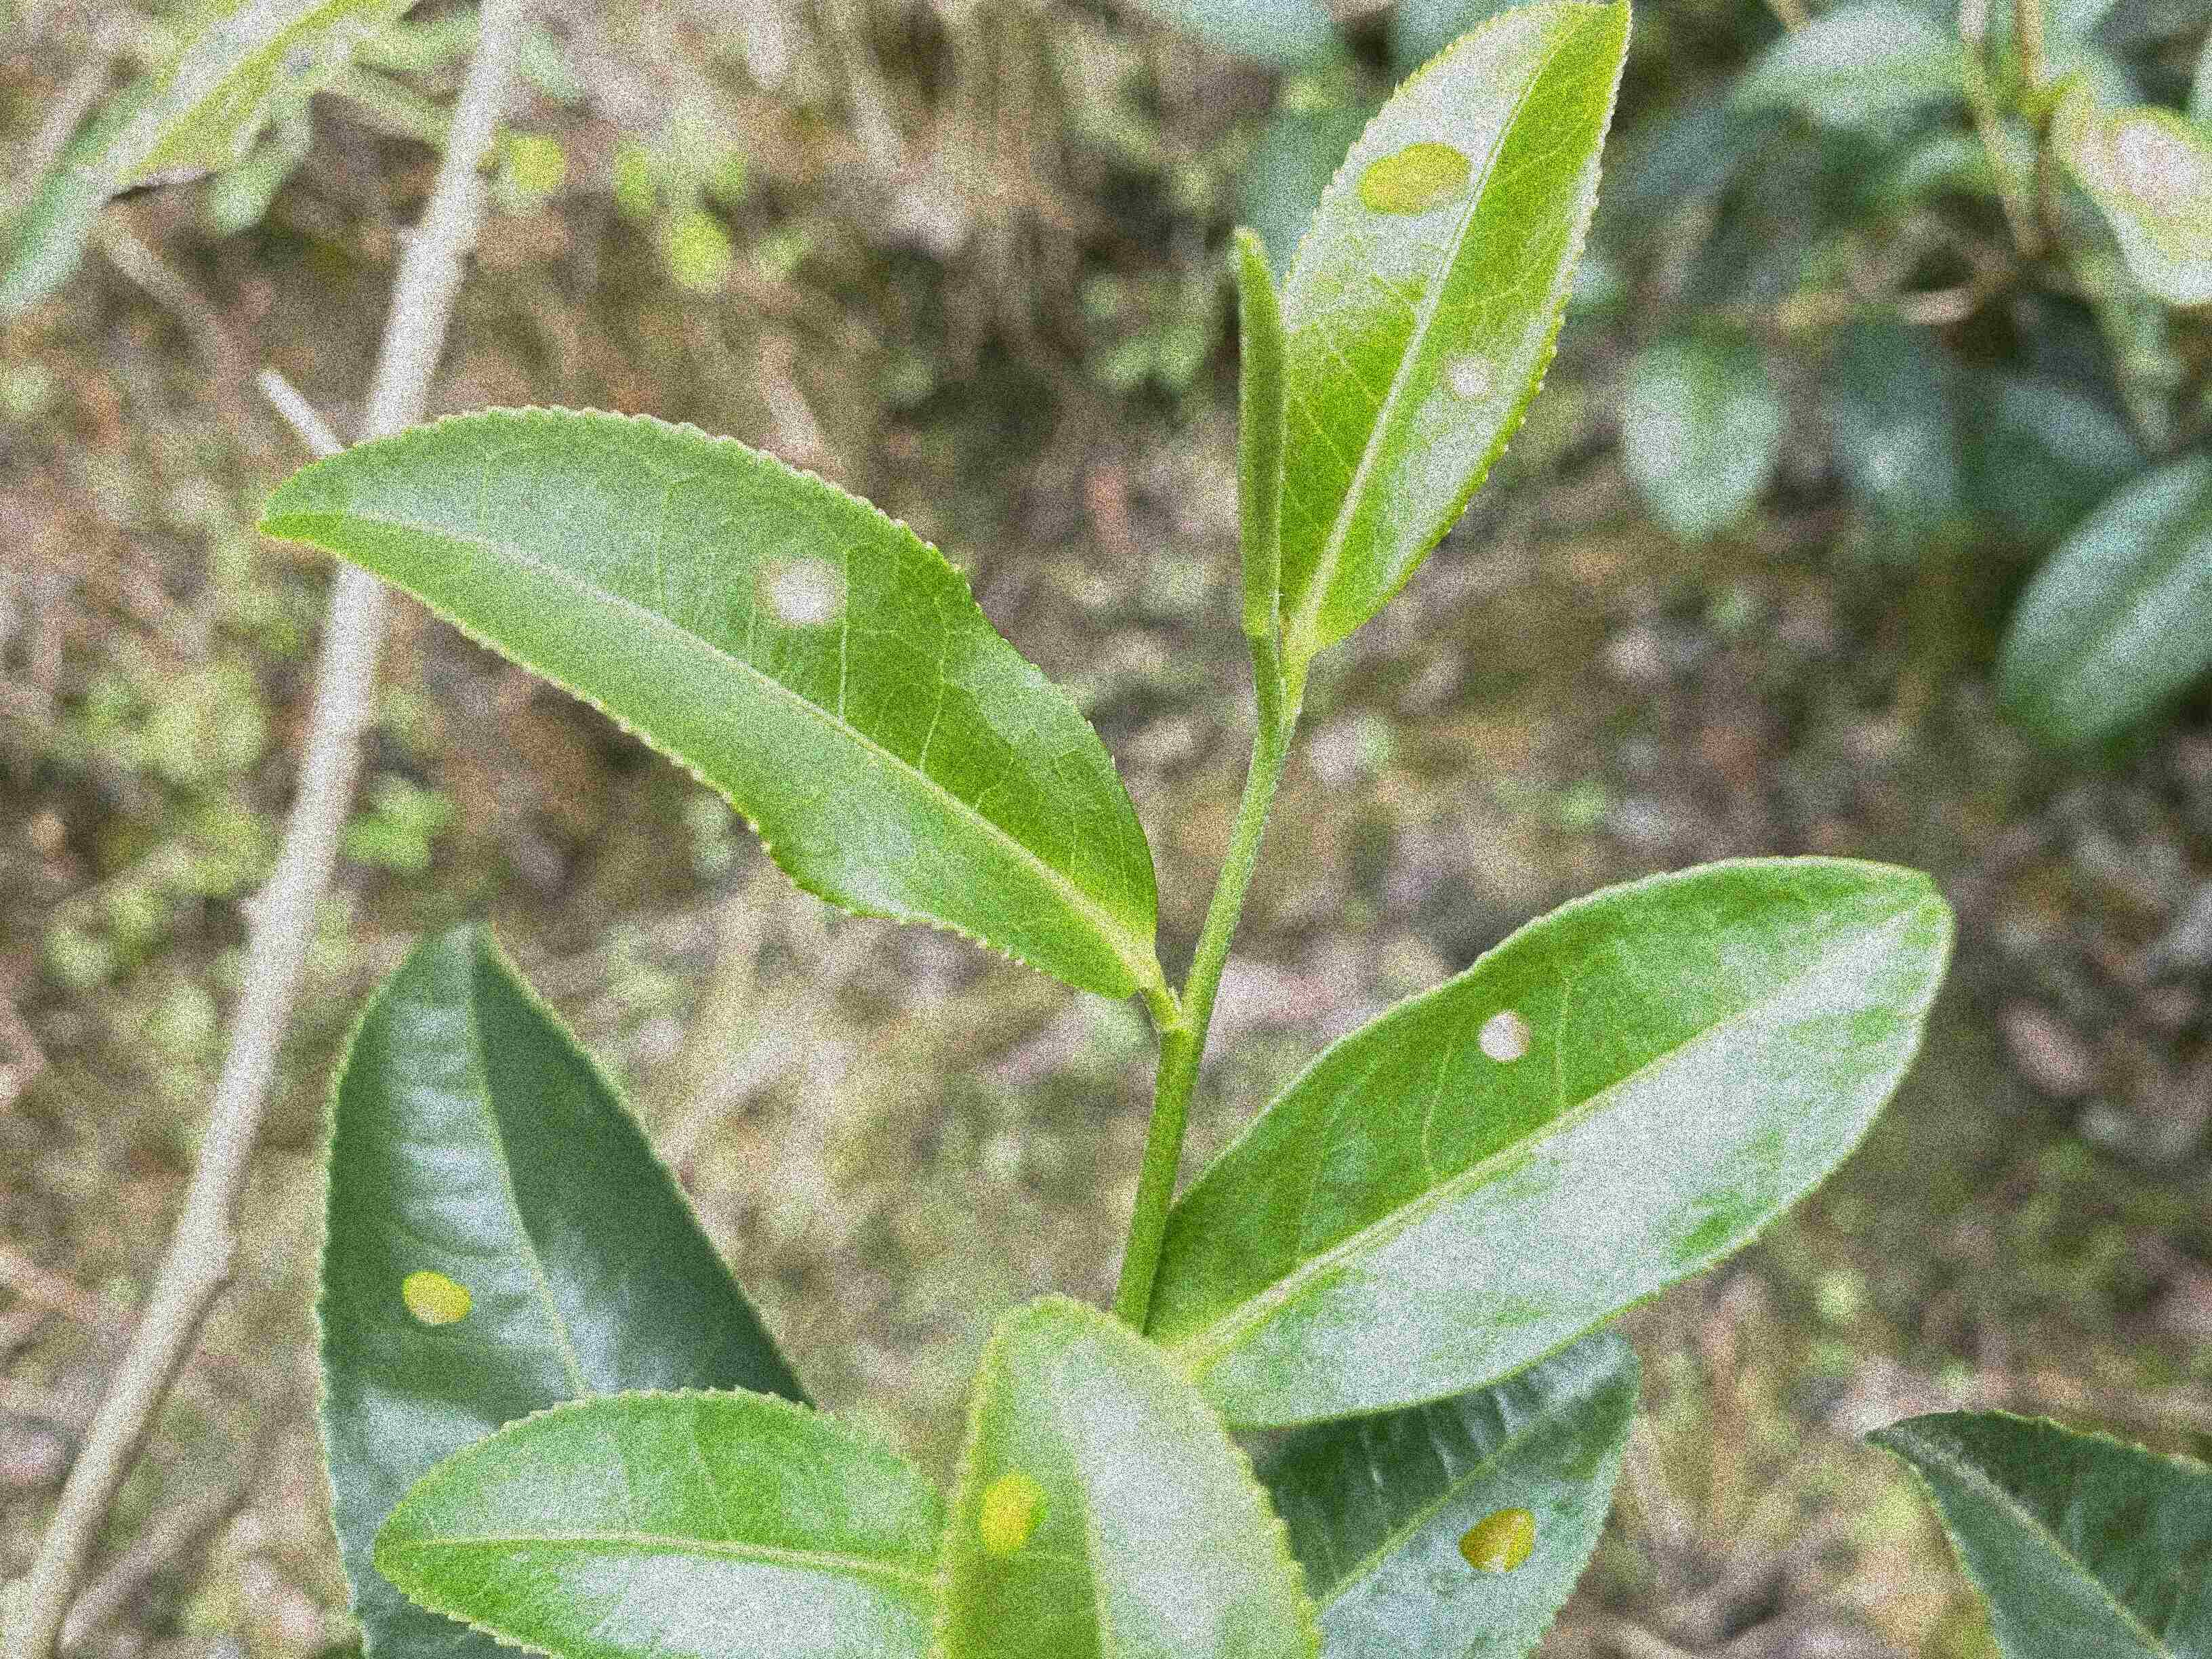chabing_high: (1284, 3, 1635, 650)
chabing_low: (258, 401, 1158, 1004), (1172, 852, 1958, 1425), (312, 917, 813, 1656), (939, 1293, 1325, 1656), (1271, 1328, 1639, 1659)
healthy: (373, 1382, 944, 1654), (1865, 1408, 2210, 1656)
